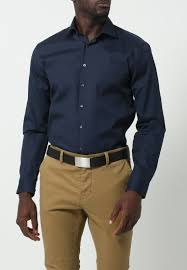F_belt: (36, 140, 139, 176)
F_shirt: (11, 23, 169, 200)
